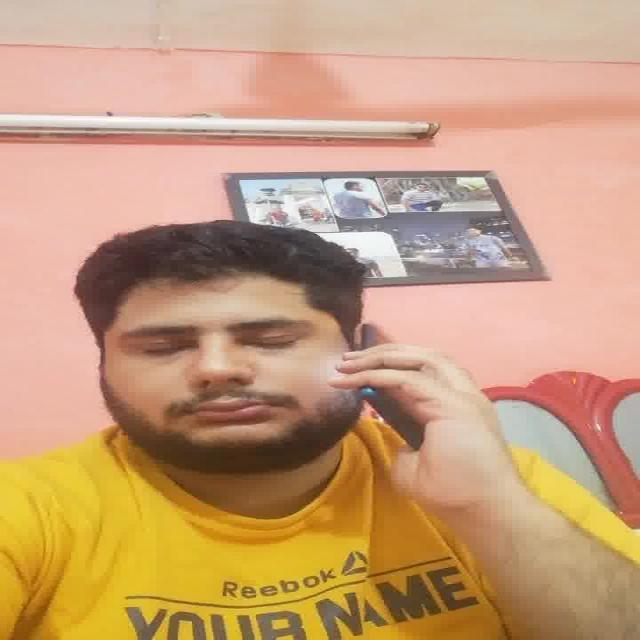Phone: (357, 318, 431, 455)
